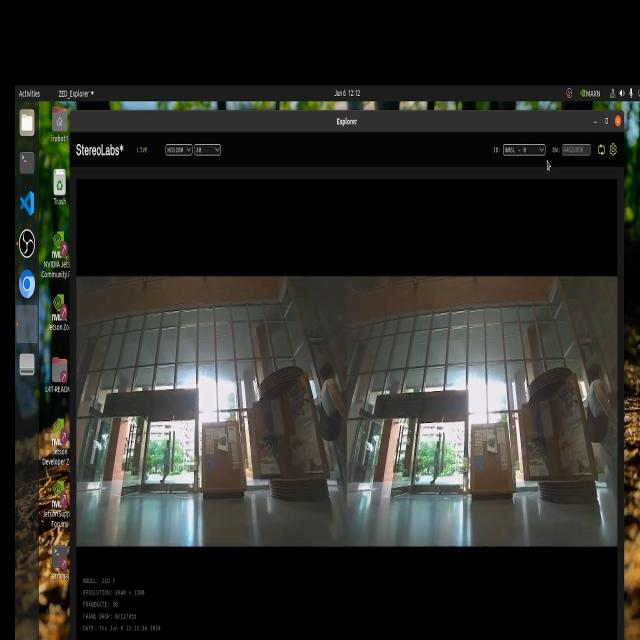green: (218, 432, 229, 457), (483, 435, 496, 456)
